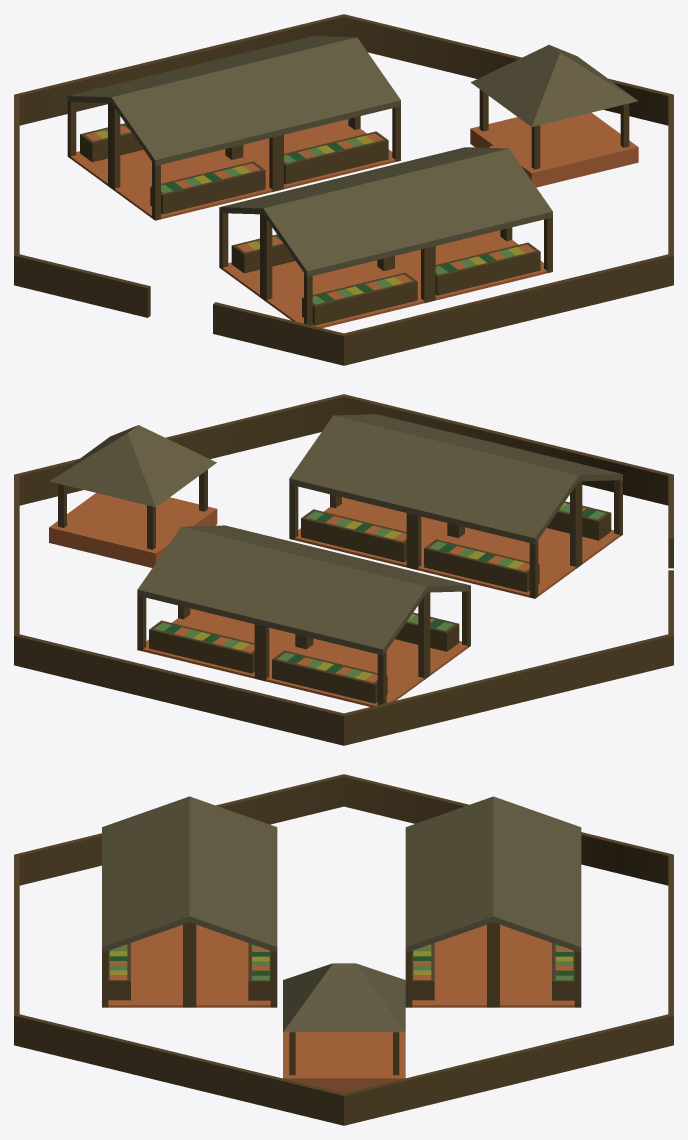
File: MJ_Building_Market.fbx
The picture shows the model from 3 angles, top to bottom: view 1: azimuth 30°, elevation 25°; view 2: azimuth 150°, elevation 25°; view 3: azimuth 270°, elevation 25°; orthographic projection.
Parts seen in each view (by area): view 1: Model; view 2: Model; view 3: Model.
Part boxes in pixels (box(x1,y1,x2,y2)): Model: box(14, 14, 673, 365); Model: box(14, 394, 673, 745); Model: box(14, 774, 673, 1125).
Bounding box in the file's own units: 5.82 × 0.8806 × 5.04.
